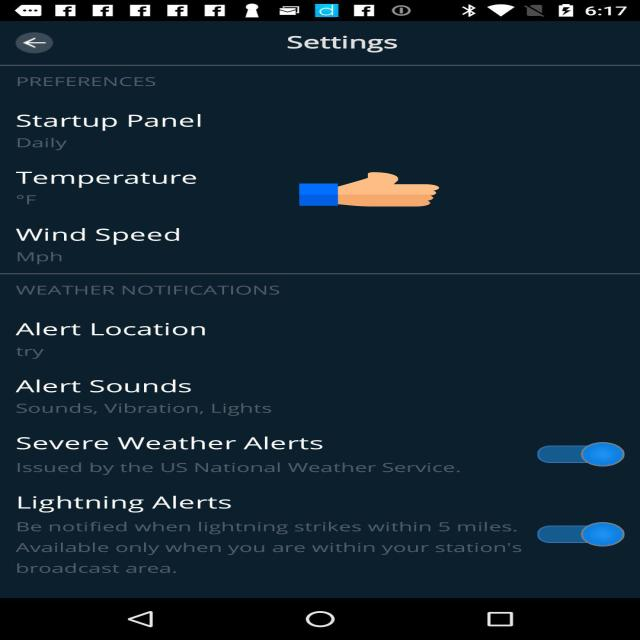privacy zuckering: (299, 172, 439, 208)
